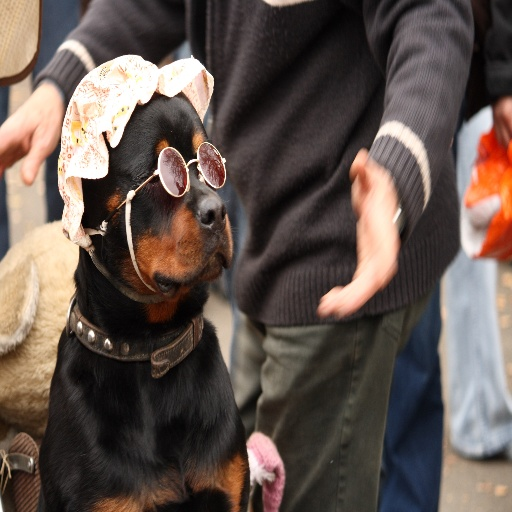hand: (315, 144, 399, 324), (0, 80, 65, 187), (492, 96, 511, 151)
